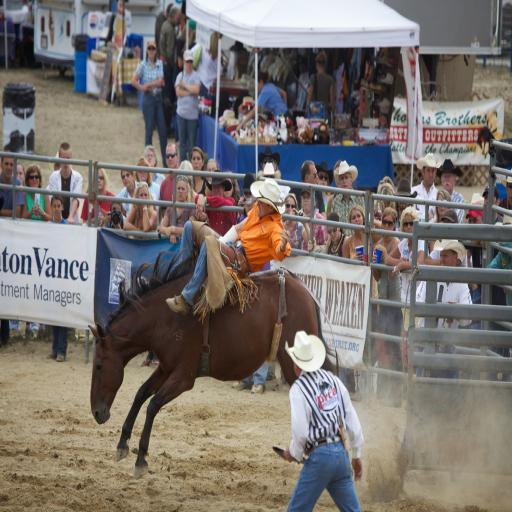horse: (82, 230, 326, 480)
